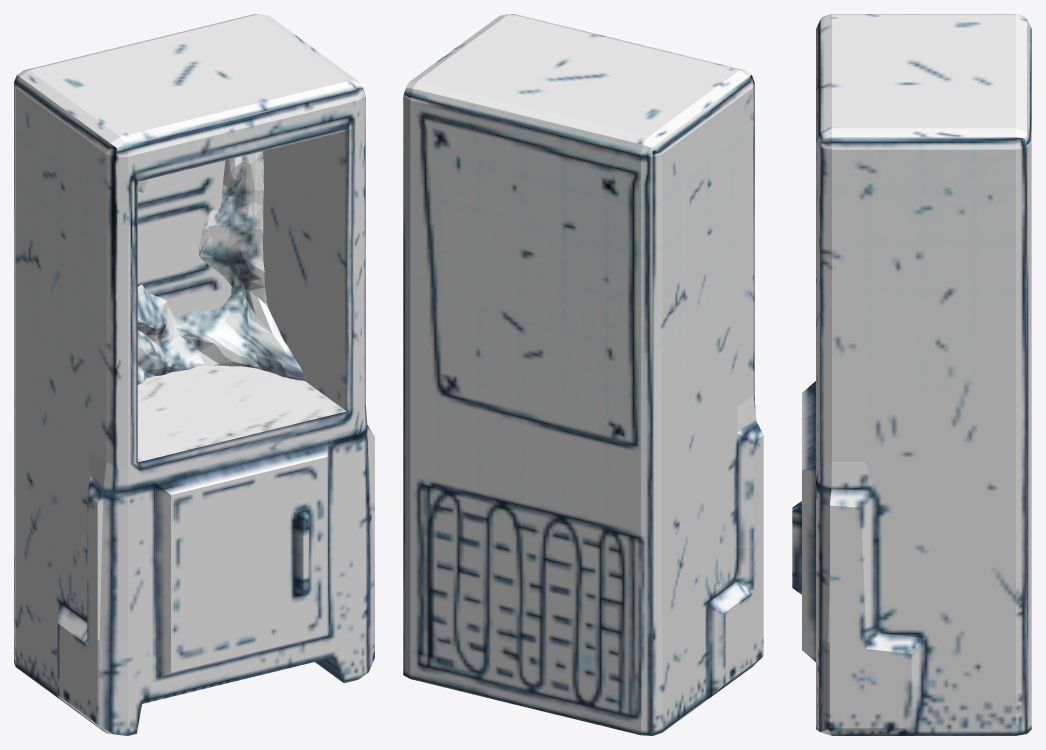
Rendered from FridgeBody.fbx.
The picture shows the model from 3 angles, left to right: view 1: azimuth 30°, elevation 25°; view 2: azimuth 150°, elevation 25°; view 3: azimuth 270°, elevation 25°; orthographic projection.
Parts seen in each view (by area): view 1: FridgeBody; view 2: FridgeBody; view 3: FridgeBody.
Boxes of the visible parts, x1,y1,x2,y2 form: FridgeBody: [14, 14, 374, 735]; FridgeBody: [403, 14, 763, 735]; FridgeBody: [792, 14, 1031, 735].
Bounding box in the file's own units: 89.75 × 184 × 66.36.
